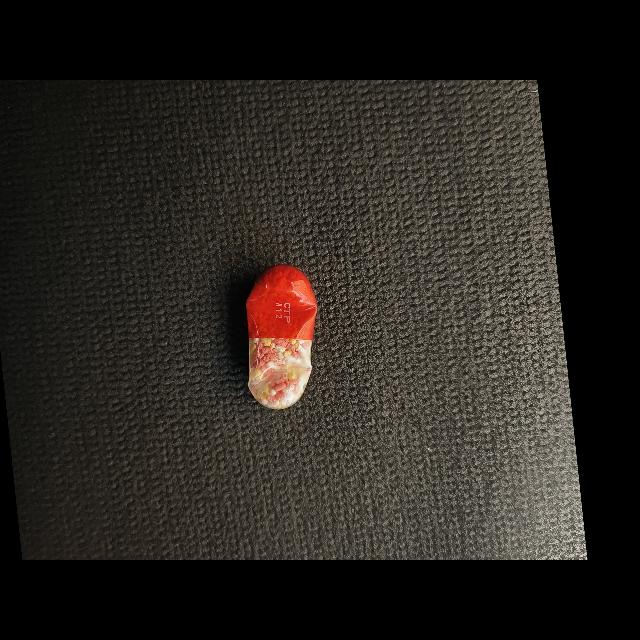Defective Capsule: (246, 265, 318, 410)
